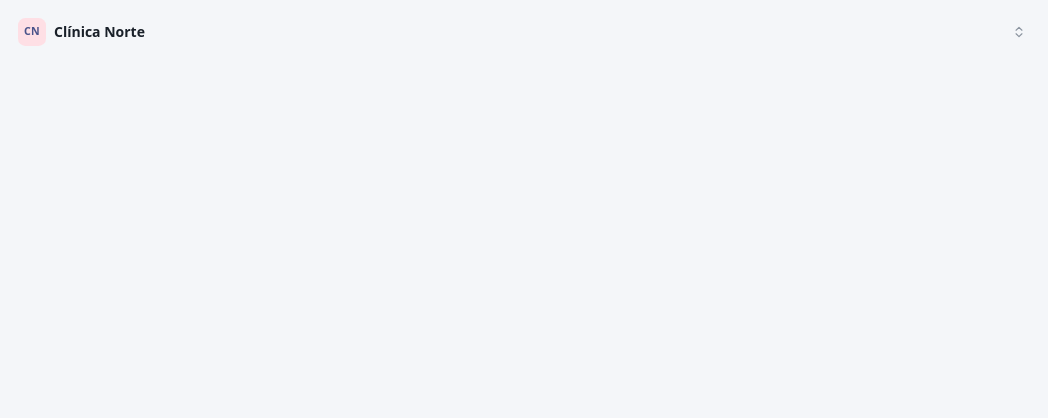
it: 03 SelectorEspacio › cambia de espacio y cierra
The width and height of the screenshot is (1048, 418).
Click the button with aria-label "Cambiar de espacio: Clínica Norte".
click(99, 32)  # box [12,12,1036,52]
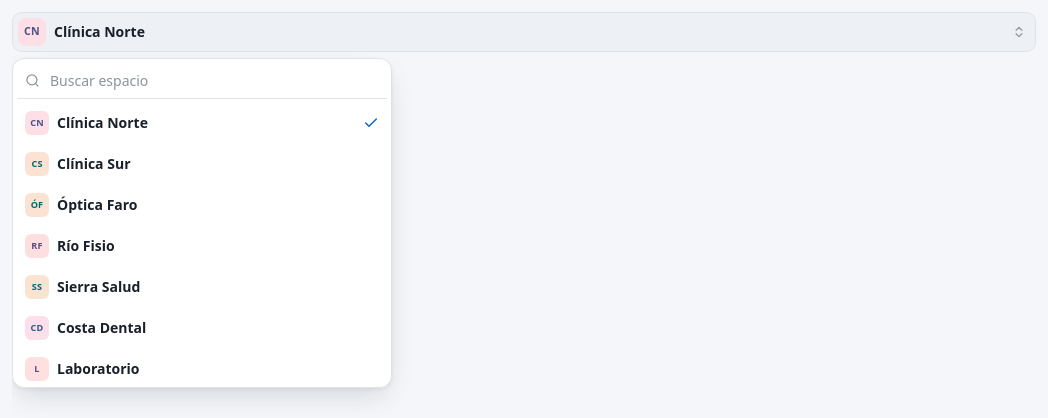
Click the option "CS Clínica Sur".
click(94, 164)  # box [17,144,387,184]
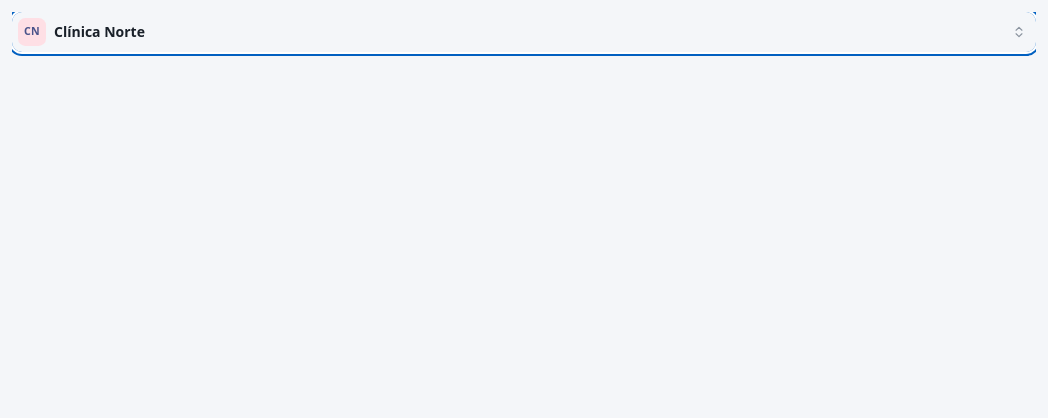
Now the list is gone
